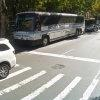Car: (0, 34, 17, 85)
